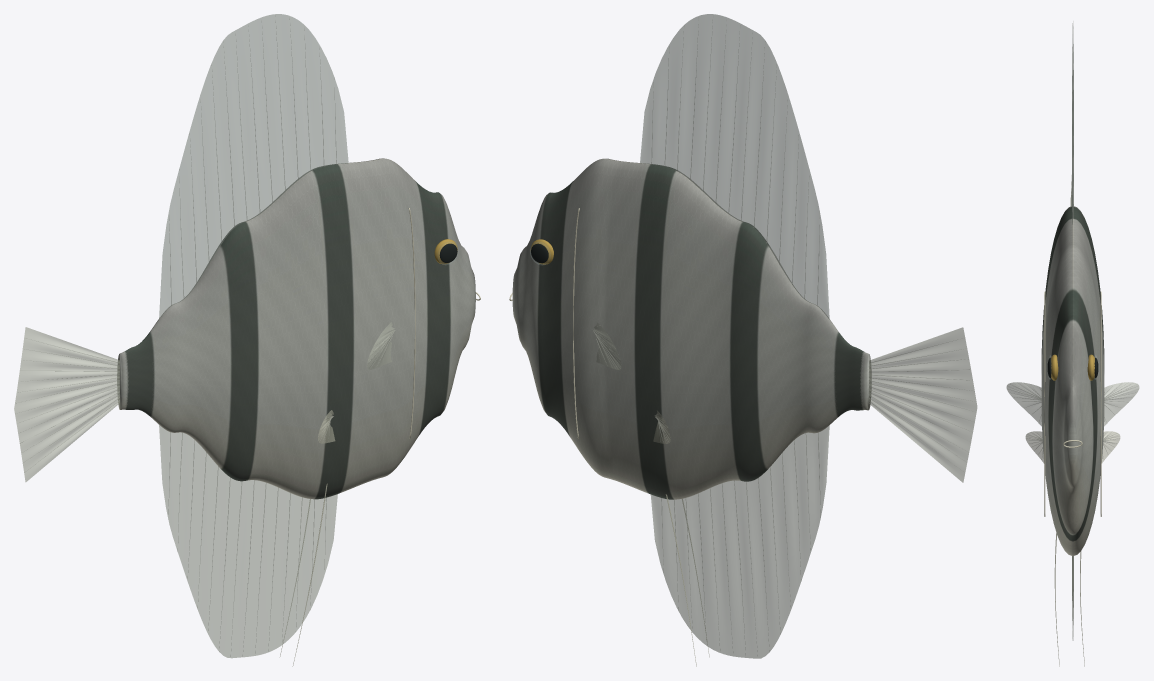
The model's file is angelfish-desktop.glb.
The picture shows the model from 3 angles, left to right: view 1: azimuth 30°, elevation 25°; view 2: azimuth 150°, elevation 25°; view 3: azimuth 270°, elevation 25°; orthographic projection. The views are drawn at different scales.
Parts seen in each view (by area): view 1: skin, dorsal, anal, tail, dorsal-ray, pelvic-left, pectoral-left; view 2: skin, dorsal, anal, tail, dorsal-ray, pelvic-left, pectoral-left; view 3: skin, pectoral-left, pelvic-left, dorsal-ray, operculum, dorsal, eye-iris--1.
Boxes of the visible parts, x1,y1,x2,y2 form: skin: (117, 158, 475, 499); dorsal: (159, 14, 348, 318); anal: (159, 425, 337, 658); tail: (14, 327, 119, 481); dorsal-ray: (16, 14, 395, 656); pelvic-left: (279, 410, 335, 666); pectoral-left: (367, 322, 394, 369); skin: (512, 158, 871, 499); dorsal: (640, 14, 829, 319); anal: (650, 425, 829, 658); tail: (869, 327, 977, 482); dorsal-ray: (593, 14, 972, 656); pelvic-left: (653, 410, 709, 666); pectoral-left: (593, 322, 621, 369); skin: (1041, 206, 1104, 555); pectoral-left: (1006, 382, 1139, 426); pelvic-left: (1025, 431, 1120, 666); dorsal-ray: (1012, 21, 1135, 640); operculum: (1044, 291, 1101, 516); dorsal: (1072, 27, 1073, 224); eye-iris--1: (1051, 354, 1094, 380).
Size of the model in its own units: 0.5972 by 0.8016 by 0.1523.
Materials: 11 (1 with a texture image).
